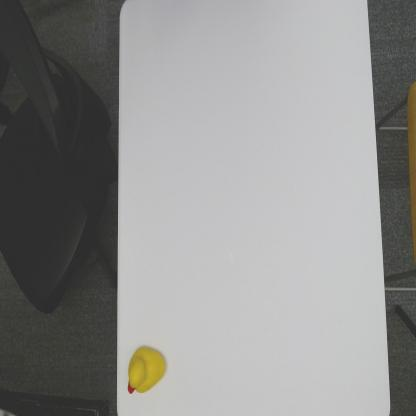Duck: (127, 341, 166, 398)
